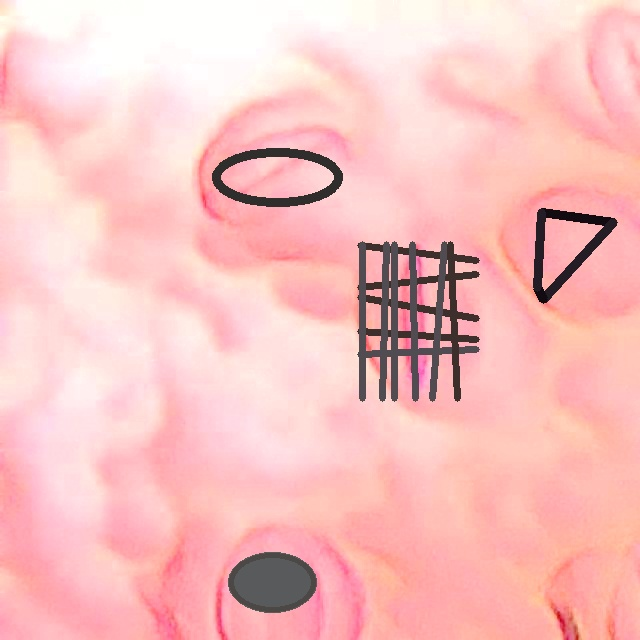close: (212, 146, 342, 208), (533, 208, 617, 303), (227, 551, 317, 612)
open: (358, 242, 479, 401)
